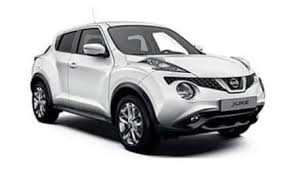Nissan: (39, 29, 265, 140)
